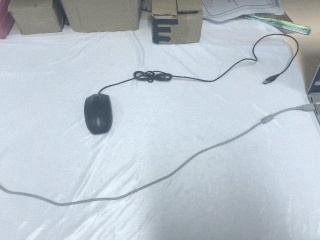box: (53, 1, 143, 34), (150, 1, 204, 47), (7, 1, 66, 36)
mouse: (83, 93, 114, 135)
